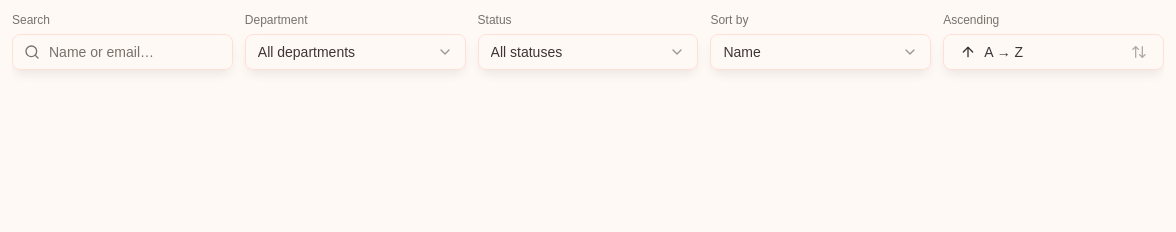
Test: EmployeeFilters › lists departments in the department filter
Click the dropdown named "Filter by department" at (355,52), box [245, 34, 466, 70]
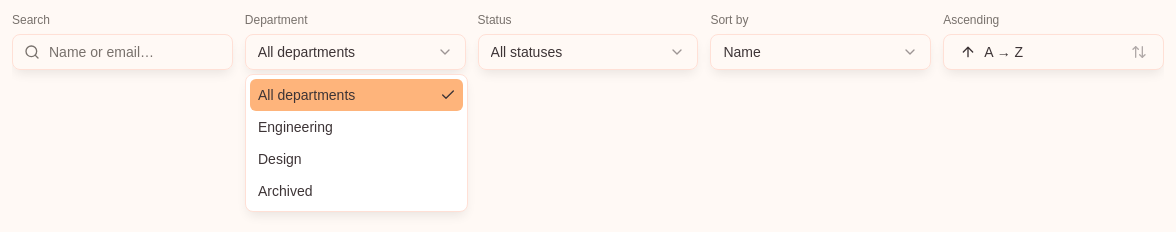
Now the option "Engineering" is shown, box [258, 119, 333, 135]
Now the option "Design" is shown, box [258, 151, 302, 167]
